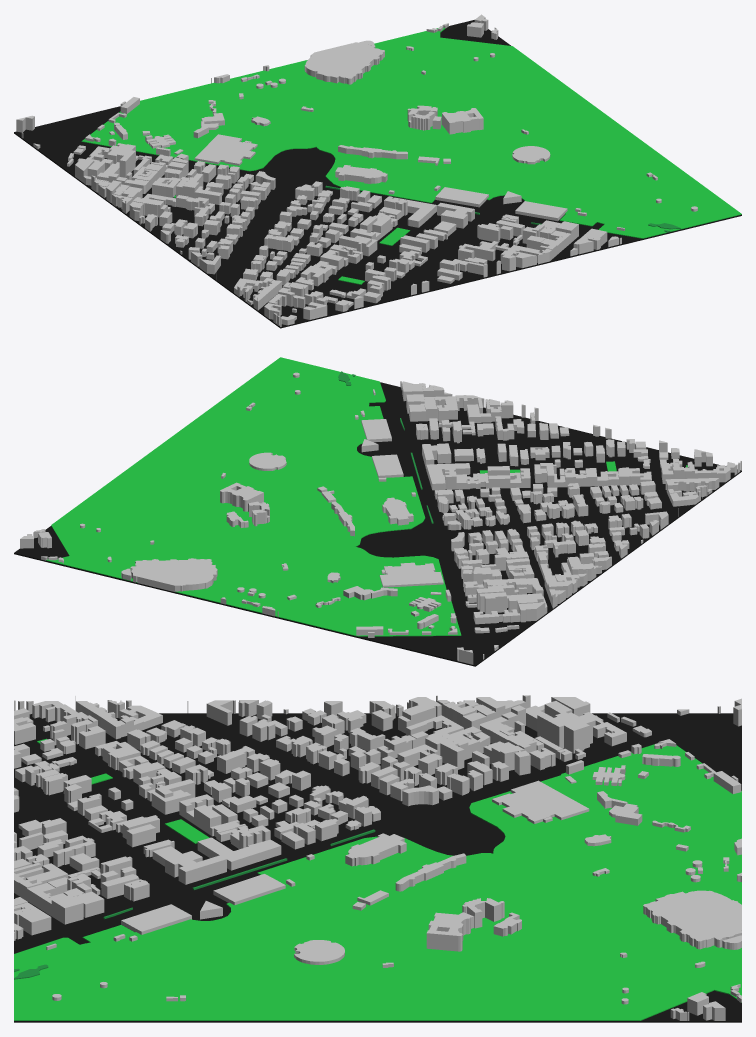
The picture shows the model from 3 angles, top to bottom: view 1: azimuth 30°, elevation 25°; view 2: azimuth 150°, elevation 25°; view 3: azimuth 270°, elevation 25°; orthographic projection. The views are drawn at different scales.
Size of the model in its own units: 1125 by 42 by 1125.
